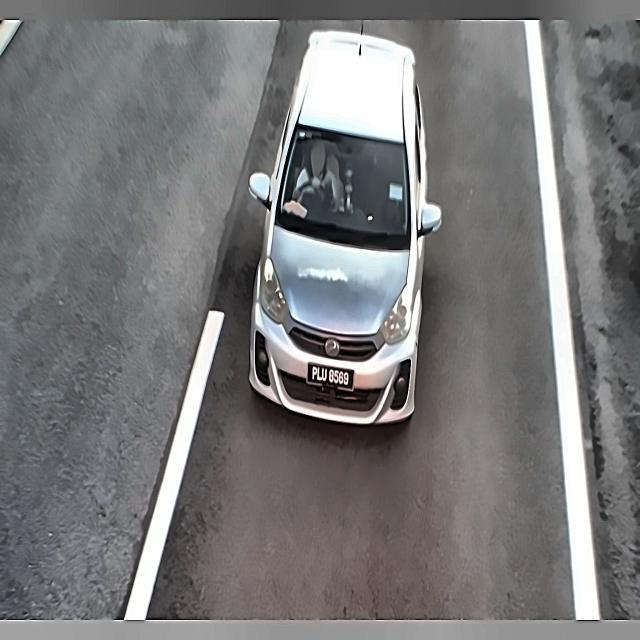car: (303, 357, 363, 400)
